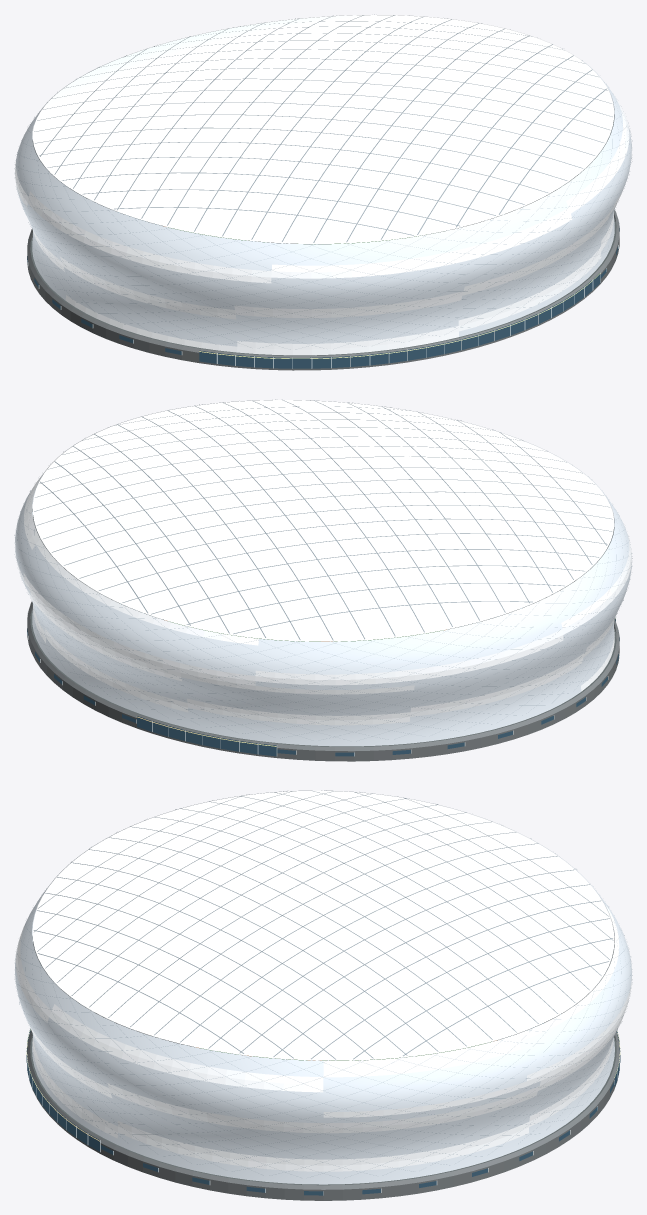
File: shell.glb
3 views of the same model, one above another, from view 1: azimuth 30°, elevation 25°; view 2: azimuth 150°, elevation 25°; view 3: azimuth 270°, elevation 25° (orthographic). The views are drawn at different scales.
Parts seen in each view (by area): view 1: shell_roof_canopy_titanium_skin, shell_bowl_mass_cladding_titanium, shell_bowl_mass_facade_panels_titanium_sweeps, shell_roof_canopy_panel_seams, shell_bowl_mass_plinth, shell_bowl_mass_facade_glazing, shell_bowl_mass_cladding_panel_lines, shell_field_floor_foundation; view 2: shell_roof_canopy_titanium_skin, shell_bowl_mass_cladding_titanium, shell_bowl_mass_facade_panels_titanium_sweeps, shell_roof_canopy_panel_seams, shell_bowl_mass_plinth, shell_bowl_mass_cladding_panel_lines, shell_bowl_mass_facade_glazing, shell_field_floor_foundation; view 3: shell_roof_canopy_titanium_skin, shell_bowl_mass_cladding_titanium, shell_bowl_mass_facade_panels_titanium_sweeps, shell_roof_canopy_panel_seams, shell_bowl_mass_plinth, shell_bowl_mass_cladding_panel_lines, shell_bowl_mass_facade_glazing, shell_field_floor_foundation.
Part boxes in pixels (x1,y1,x2,y2): shell_roof_canopy_titanium_skin: (32, 15, 614, 243); shell_bowl_mass_cladding_titanium: (16, 56, 631, 346); shell_bowl_mass_facade_panels_titanium_sweeps: (15, 15, 629, 355); shell_roof_canopy_panel_seams: (34, 15, 612, 242); shell_bowl_mass_plinth: (27, 175, 619, 370); shell_bowl_mass_facade_glazing: (27, 223, 619, 368); shell_bowl_mass_cladding_panel_lines: (14, 14, 632, 349); shell_field_floor_foundation: (30, 179, 616, 355); shell_roof_canopy_titanium_skin: (32, 400, 614, 641); shell_bowl_mass_cladding_titanium: (15, 400, 631, 746); shell_bowl_mass_facade_panels_titanium_sweeps: (17, 452, 631, 725); shell_roof_canopy_panel_seams: (34, 399, 612, 640); shell_bowl_mass_plinth: (27, 568, 619, 761); shell_bowl_mass_cladding_panel_lines: (14, 399, 632, 741); shell_bowl_mass_facade_glazing: (27, 618, 619, 756); shell_field_floor_foundation: (30, 573, 616, 746); shell_roof_canopy_titanium_skin: (32, 790, 614, 1060); shell_bowl_mass_cladding_titanium: (15, 790, 631, 1184); shell_bowl_mass_facade_panels_titanium_sweeps: (15, 894, 631, 1171); shell_roof_canopy_panel_seams: (33, 790, 613, 1059); shell_bowl_mass_plinth: (27, 991, 619, 1200); shell_bowl_mass_cladding_panel_lines: (14, 790, 632, 1178); shell_bowl_mass_facade_glazing: (26, 1028, 620, 1195); shell_field_floor_foundation: (30, 994, 616, 1185).
Size of the model in its own units: 287 by 79.24 by 262.
